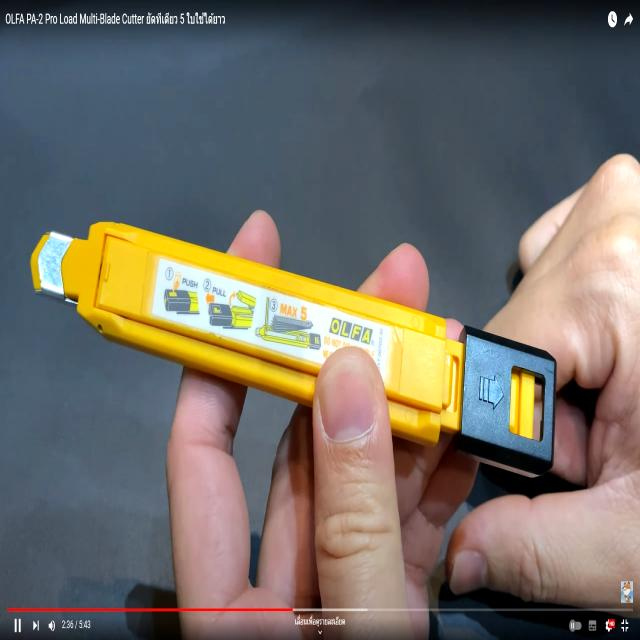cutter: (8, 130, 640, 588)
